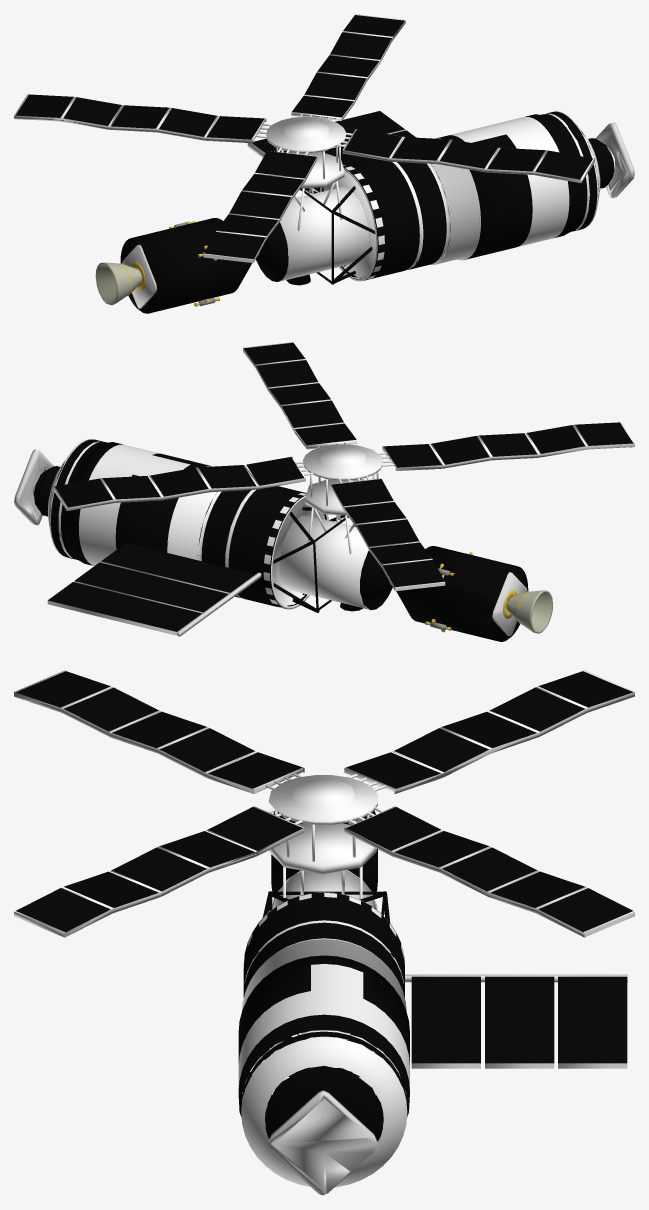
File: skylab.glb
3 renders of one model, top to bottom at view 1: azimuth 30°, elevation 25°; view 2: azimuth 150°, elevation 25°; view 3: azimuth 270°, elevation 25°, orthographic. The views are drawn at different scales.
Parts seen in each view (by area): view 1: polySurfac; view 2: polySurfac; view 3: polySurfac.
Boxes of the visible parts, x1=… form: polySurfac: x1=14, y1=14, x2=634, y2=313; polySurfac: x1=14, y1=342, x2=634, y2=641; polySurfac: x1=14, y1=670, x2=634, y2=1195.
Size of the model in its own units: 26 by 7.91 by 20.04.
